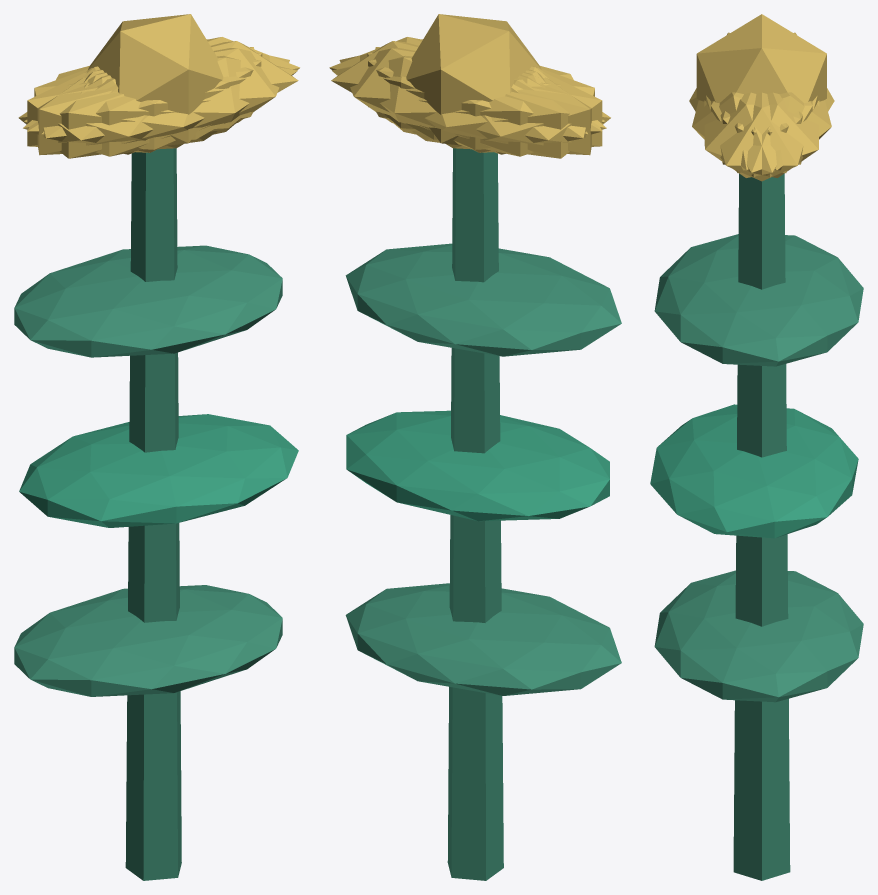
Rendered from spermacoce-remota.glb.
The picture shows the model from 3 angles, left to right: view 1: azimuth 30°, elevation 25°; view 2: azimuth 150°, elevation 25°; view 3: azimuth 270°, elevation 25°; orthographic projection.
Visible parts, largest first — view 1: stem, leaf1, leaf2, leaf0, center, petal1, petal6, petal2, petal5, petal7, petal0, petal4 (+2 smaller); view 2: stem, leaf2, leaf0, leaf1, center, petal8, petal3, petal7, petal4, petal2, petal0, petal5 (+2 smaller); view 3: stem, leaf2, leaf1, leaf0, center, petal0, petal5, petal4, petal1, petal8.
Part boxes in pixels (box(x1,y1,x2,y2)): stem: box(125, 148, 181, 880); leaf1: box(19, 414, 298, 527); leaf2: box(14, 245, 282, 357); leaf0: box(14, 585, 282, 696); center: box(88, 14, 223, 145); petal1: box(23, 55, 297, 156); petal6: box(18, 68, 217, 158); petal2: box(37, 47, 253, 155); petal5: box(41, 48, 289, 149); petal7: box(27, 52, 262, 152); petal0: box(87, 41, 298, 139); petal4: box(24, 37, 299, 131); stem: box(447, 148, 503, 880); leaf2: box(345, 243, 621, 356); leaf0: box(345, 583, 621, 695); leaf1: box(346, 410, 609, 521); center: box(406, 14, 541, 145); petal8: box(332, 55, 606, 156); petal3: box(412, 68, 610, 158); petal7: box(375, 47, 591, 155); petal4: box(339, 48, 587, 149); petal2: box(367, 52, 602, 152); petal0: box(331, 41, 541, 139); petal5: box(329, 37, 605, 131); stem: box(733, 173, 790, 880); leaf2: box(654, 234, 863, 366); leaf1: box(650, 404, 858, 538); leaf0: box(654, 570, 863, 702); center: box(696, 14, 826, 102); petal0: box(706, 92, 817, 181); petal5: box(704, 92, 812, 177); petal4: box(711, 92, 819, 177); petal1: box(692, 92, 802, 170); petal8: box(720, 92, 831, 170).
Bounding box in the file's own units: 0.1483 × 0.4341 × 0.1004.
